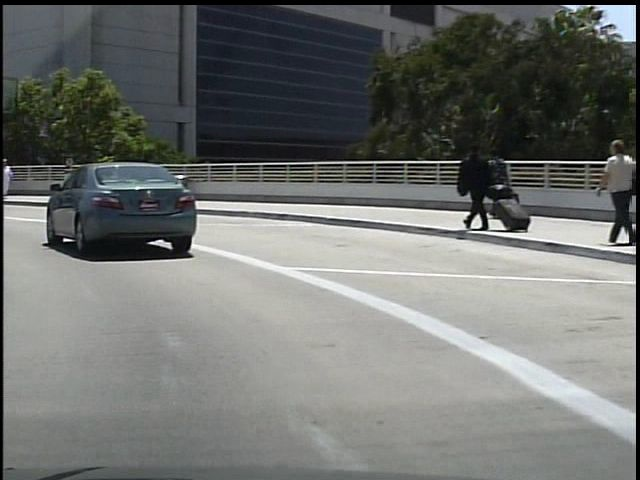person: (590, 137, 635, 250), (452, 138, 494, 229), (479, 144, 513, 219)
